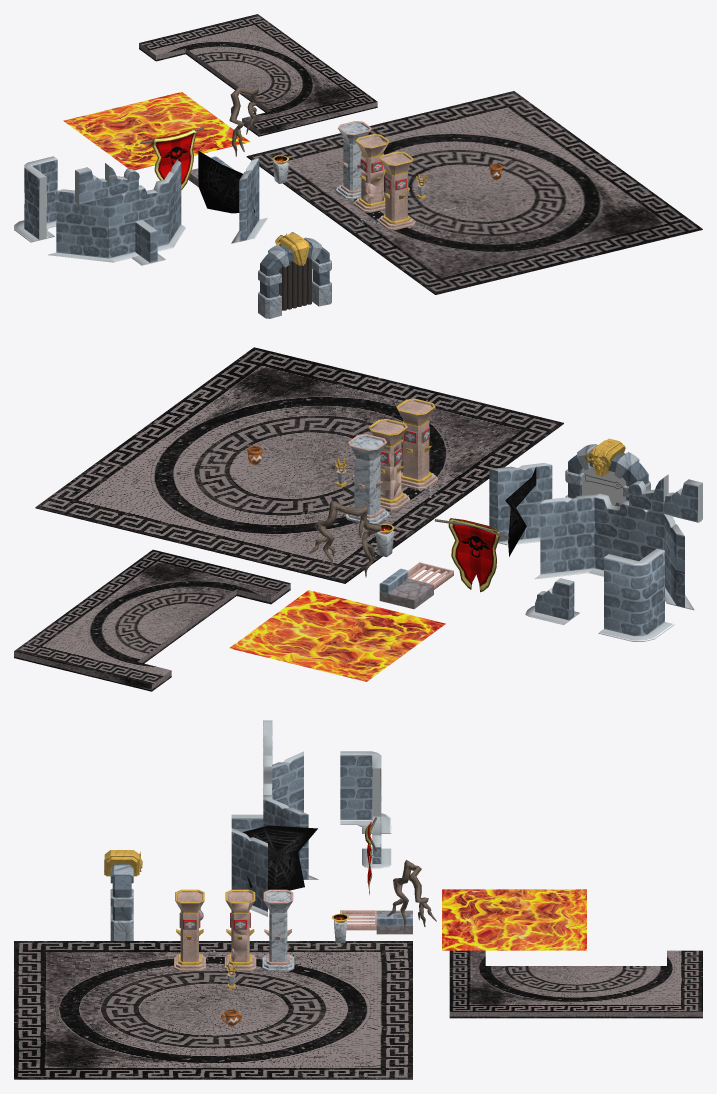
The model's file is DungeonPieces.FBX.
3 renders of one model, top to bottom at view 1: azimuth 30°, elevation 25°; view 2: azimuth 150°, elevation 25°; view 3: azimuth 270°, elevation 25°, orthographic. The views are drawn at different scales.
Visible parts, largest first — view 1: boss_floor, boss_floor_2, lava, door, Pillar2, env_spiderweb_1, wall1_base_diagonal_1, banner, Pillar, wall1_top_diagonal_1, wall1_top_corner_1, barrier (+13 smaller); view 2: boss_floor, boss_floor_2, lava, banner, wall1_base_corner_1, Pillar2, wall1_top_corner_1, door, Pillar, wall1_base_diagonal_2, wall1_top_diagonal_2, wall1_top_diagonal_3 (+14 smaller); view 3: boss_floor, boss_floor_2, lava, env_spiderweb_1, door, Pillar2, Pillar, wall1_top_corner_1, wall1_base_corner_1, wall1_top_diagonal_3, wall1_top_diagonal_1, roots (+4 smaller).
Boxes of the visible parts, x1,y1,x2,y2 form: boss_floor: [246, 91, 702, 294]; boss_floor_2: [139, 14, 377, 136]; lava: [63, 92, 249, 170]; door: [258, 233, 331, 318]; Pillar2: [377, 151, 415, 230]; env_spiderweb_1: [198, 151, 254, 213]; wall1_base_diagonal_1: [48, 222, 113, 262]; banner: [140, 126, 204, 189]; Pillar: [335, 121, 371, 199]; wall1_top_diagonal_1: [56, 189, 108, 227]; wall1_top_corner_1: [24, 156, 57, 209]; barrier: [279, 257, 311, 310]; boss_floor: [35, 347, 563, 583]; boss_floor_2: [14, 549, 290, 691]; lava: [229, 590, 445, 681]; banner: [434, 518, 509, 592]; wall1_base_corner_1: [598, 587, 674, 641]; Pillar2: [396, 398, 437, 489]; wall1_top_corner_1: [604, 548, 664, 600]; door: [565, 438, 650, 500]; Pillar: [345, 434, 389, 524]; wall1_base_diagonal_2: [534, 533, 594, 579]; wall1_top_diagonal_2: [540, 493, 598, 538]; wall1_top_diagonal_3: [489, 463, 552, 506]; boss_floor: [14, 941, 412, 1079]; boss_floor_2: [449, 950, 702, 1018]; lava: [442, 889, 586, 950]; env_spiderweb_1: [242, 825, 317, 890]; door: [104, 850, 139, 940]; Pillar2: [174, 889, 205, 971]; Pillar: [262, 889, 294, 971]; wall1_top_corner_1: [340, 751, 381, 801]; wall1_base_corner_1: [340, 787, 391, 833]; wall1_top_diagonal_3: [231, 828, 267, 879]; wall1_top_diagonal_1: [272, 751, 303, 799]; roots: [387, 860, 436, 927].
Bounding box in the file's own units: 69.61 × 75.99 × 15.67.
